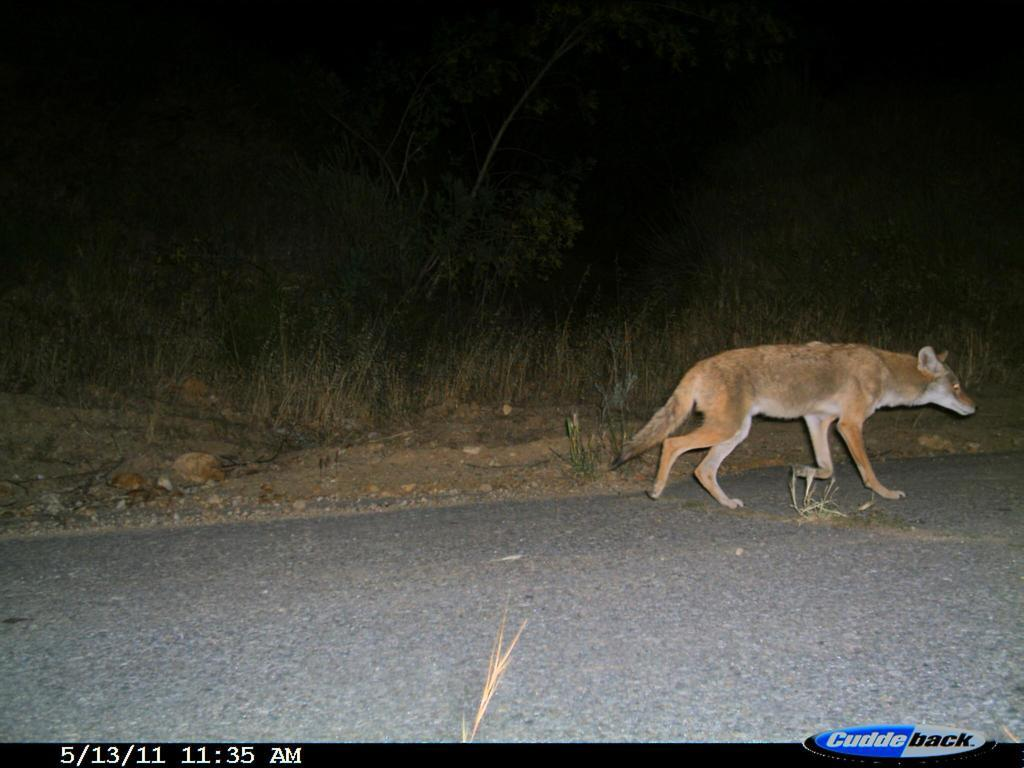coyote: (605, 324, 984, 515)
